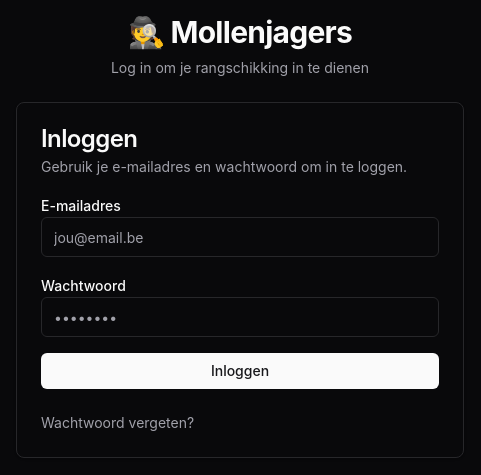
Test case: LoginPage › shows loading state while logging in
Step 1. Type "a@b.com" into the field labelled "E-mailadres" → [240, 237], box [41,217,439,257]
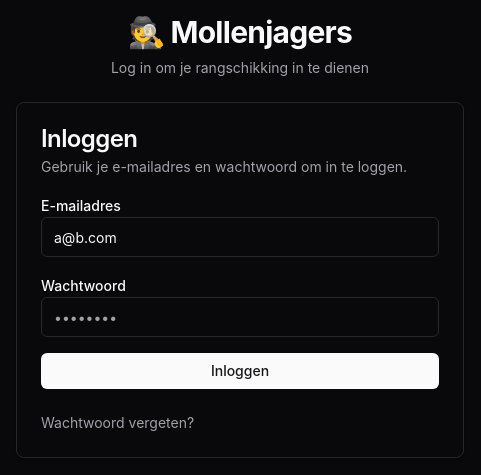
Step 2. Type "secret" into the password field labelled "Wachtwoord" → [240, 317], box [41,297,439,337]
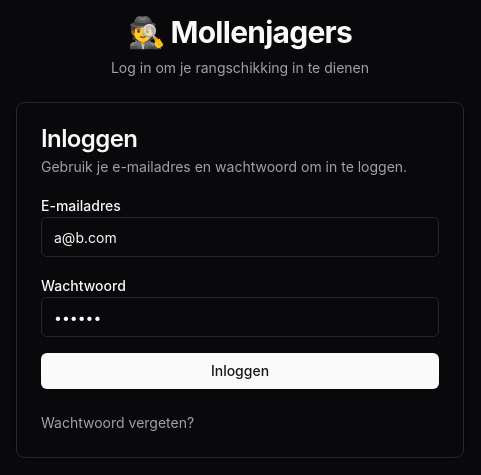
Step 3. Click the button "Inloggen" → [240, 371], box [41,353,439,389]
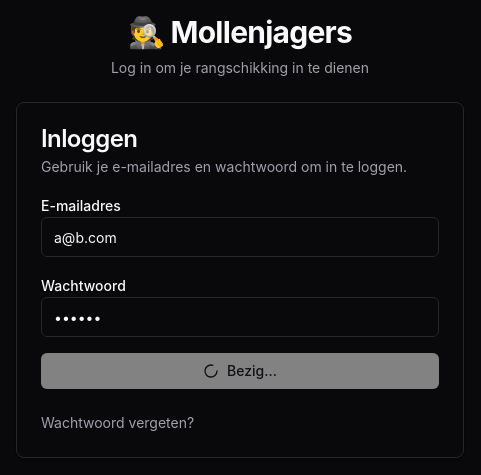
Expected: the button "Bezig..." is shown, [41,353,439,389]
